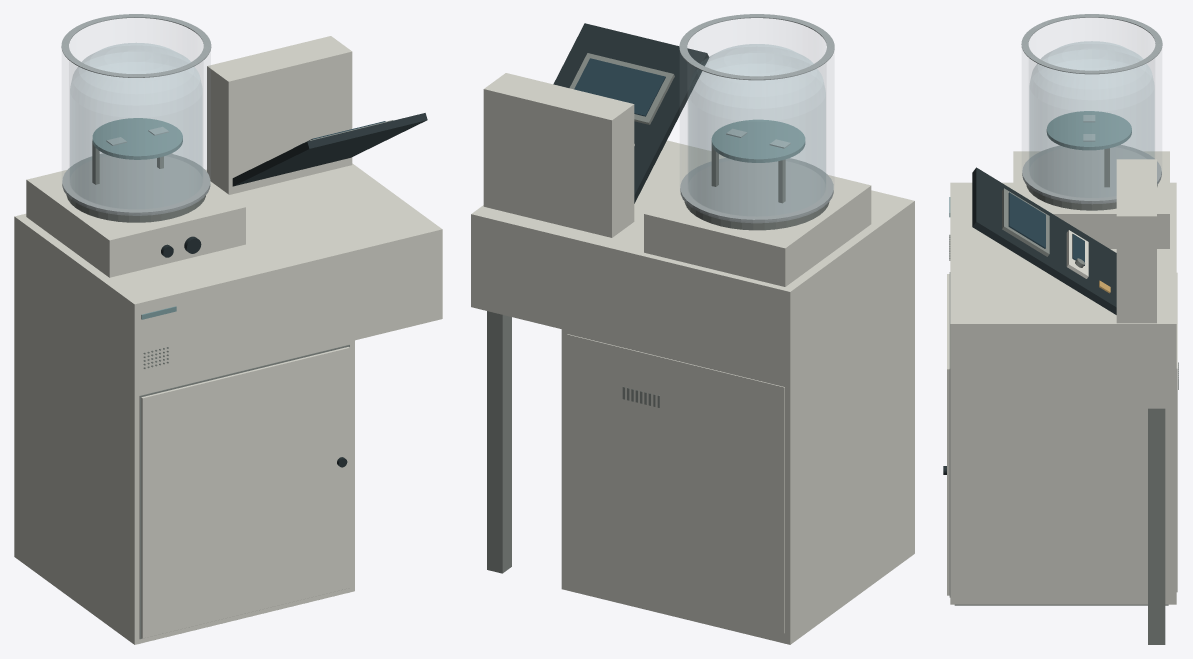
The model's file is auto-306-display.glb.
The picture shows the model from 3 angles, left to right: view 1: azimuth 30°, elevation 25°; view 2: azimuth 150°, elevation 25°; view 3: azimuth 270°, elevation 25°; orthographic projection. The views are drawn at different scales.
Visible parts, largest first — view 1: Lower_door, Upper_cabinet_880x595, Lower_cabinet, Clear_implosion_guard, Deck_880x595, Bell_jar, Controller_column, Jar_raised_stand, Bell_jar_outer_flange, Sloped_control_fascia, Dummy_coupon_holder, Guard_top_edge (+2 smaller); view 2: Cabinet_rear_panel, Lower_cabinet, Upper_cabinet_880x595, Clear_implosion_guard, Bell_jar, Controller_column, Jar_raised_stand, Deck_880x595, Bell_jar_outer_flange, Sloped_control_fascia, Right_support_panel, Dummy_coupon_holder (+4 smaller); view 3: Lower_cabinet, Clear_implosion_guard, Upper_cabinet_880x595, Bell_jar, Deck_880x595, Controller_column, Sloped_control_fascia, Bell_jar_outer_flange, Right_support_panel, Jar_raised_stand, Dummy_coupon_holder, Guard_top_edge (+8 smaller).
Part boxes in pixels (x1,y1,x2,y2): Lower_door: [141, 347, 349, 638]; Upper_cabinet_880x595: [14, 223, 442, 393]; Lower_cabinet: [14, 302, 354, 644]; Clear_implosion_guard: [62, 18, 210, 208]; Deck_880x595: [14, 163, 442, 310]; Bell_jar: [70, 43, 202, 208]; Controller_column: [207, 36, 352, 194]; Jar_raised_stand: [26, 153, 245, 277]; Bell_jar_outer_flange: [62, 153, 210, 215]; Sloped_control_fascia: [232, 113, 427, 186]; Dummy_coupon_holder: [92, 118, 182, 159]; Guard_top_edge: [61, 14, 211, 77]; Cabinet_rear_panel: [567, 334, 784, 633]; Lower_cabinet: [561, 288, 914, 644]; Upper_cabinet_880x595: [471, 208, 914, 384]; Clear_implosion_guard: [680, 18, 833, 216]; Bell_jar: [688, 44, 825, 215]; Controller_column: [483, 73, 634, 237]; Jar_raised_stand: [644, 156, 871, 286]; Deck_880x595: [471, 140, 914, 298]; Bell_jar_outer_flange: [680, 157, 833, 223]; Sloped_control_fascia: [553, 23, 709, 203]; Right_support_panel: [487, 311, 511, 573]; Dummy_coupon_holder: [711, 119, 805, 162]; Lower_cabinet: [950, 408, 1176, 604]; Clear_implosion_guard: [1022, 18, 1161, 197]; Upper_cabinet_880x595: [950, 330, 1176, 408]; Bell_jar: [1029, 41, 1154, 197]; Deck_880x595: [950, 182, 1176, 330]; Controller_column: [1116, 159, 1156, 323]; Sloped_control_fascia: [972, 167, 1116, 314]; Bell_jar_outer_flange: [1022, 145, 1161, 204]; Right_support_panel: [1148, 408, 1165, 644]; Jar_raised_stand: [1013, 151, 1169, 248]; Dummy_coupon_holder: [1046, 111, 1131, 150]; Guard_top_edge: [1021, 14, 1162, 74].
Bounding box in the file's own units: 0.88 × 1.45 × 0.6188.
